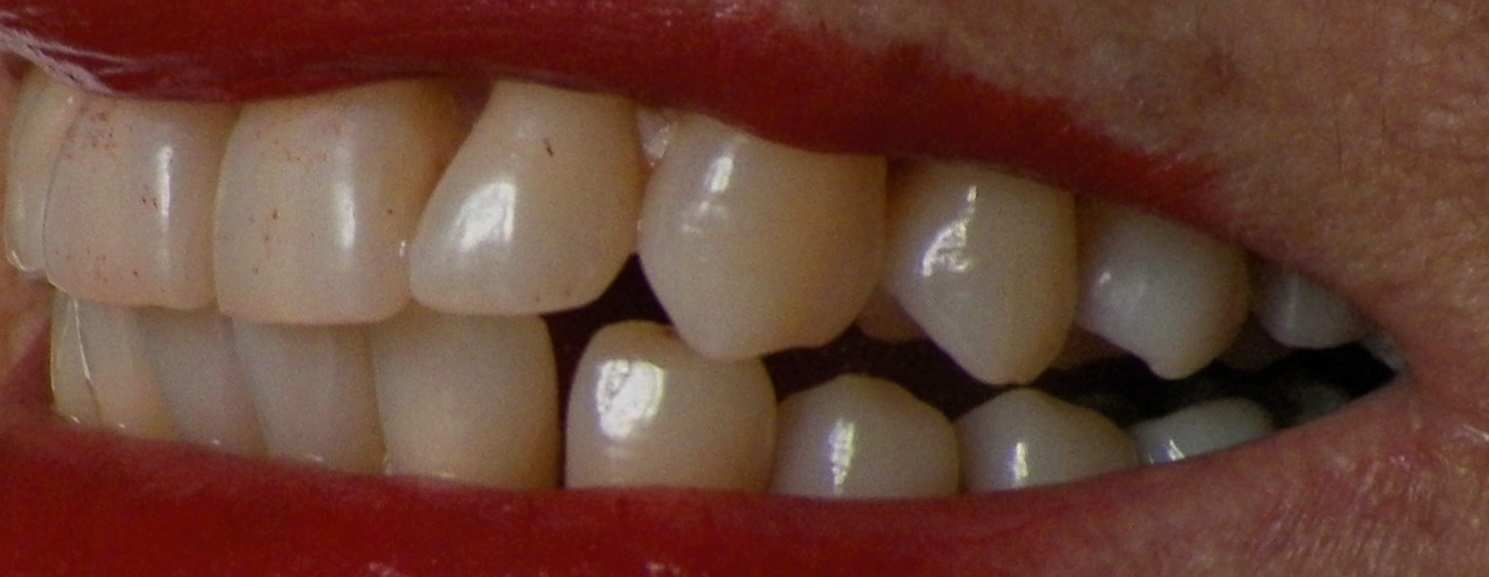boca: (9, 51, 1330, 476)
